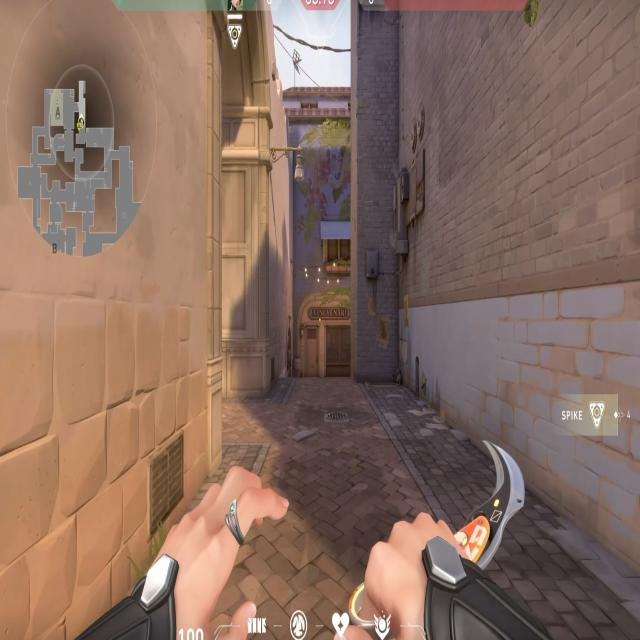Wine: (290, 274, 376, 388)
